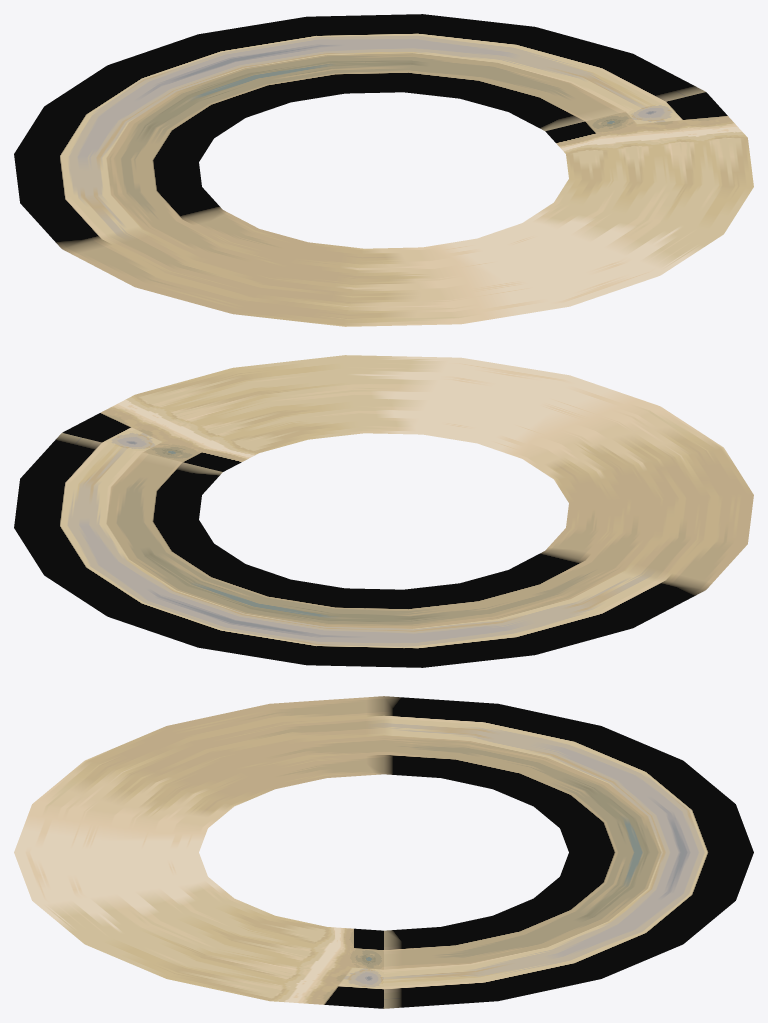
The model's file is saturn.obj.
3 renders of one model, top to bottom at view 1: azimuth 30°, elevation 25°; view 2: azimuth 150°, elevation 25°; view 3: azimuth 270°, elevation 25°, orthographic.
Visible parts, largest first — view 1: unknown; view 2: unknown; view 3: unknown.
Part boxes in pixels (x1,y1,x2,y2): unknown: (14, 14, 753, 326); unknown: (14, 355, 753, 667); unknown: (14, 696, 753, 1008).
Size of the model in its own units: 3 by 0 by 3.
